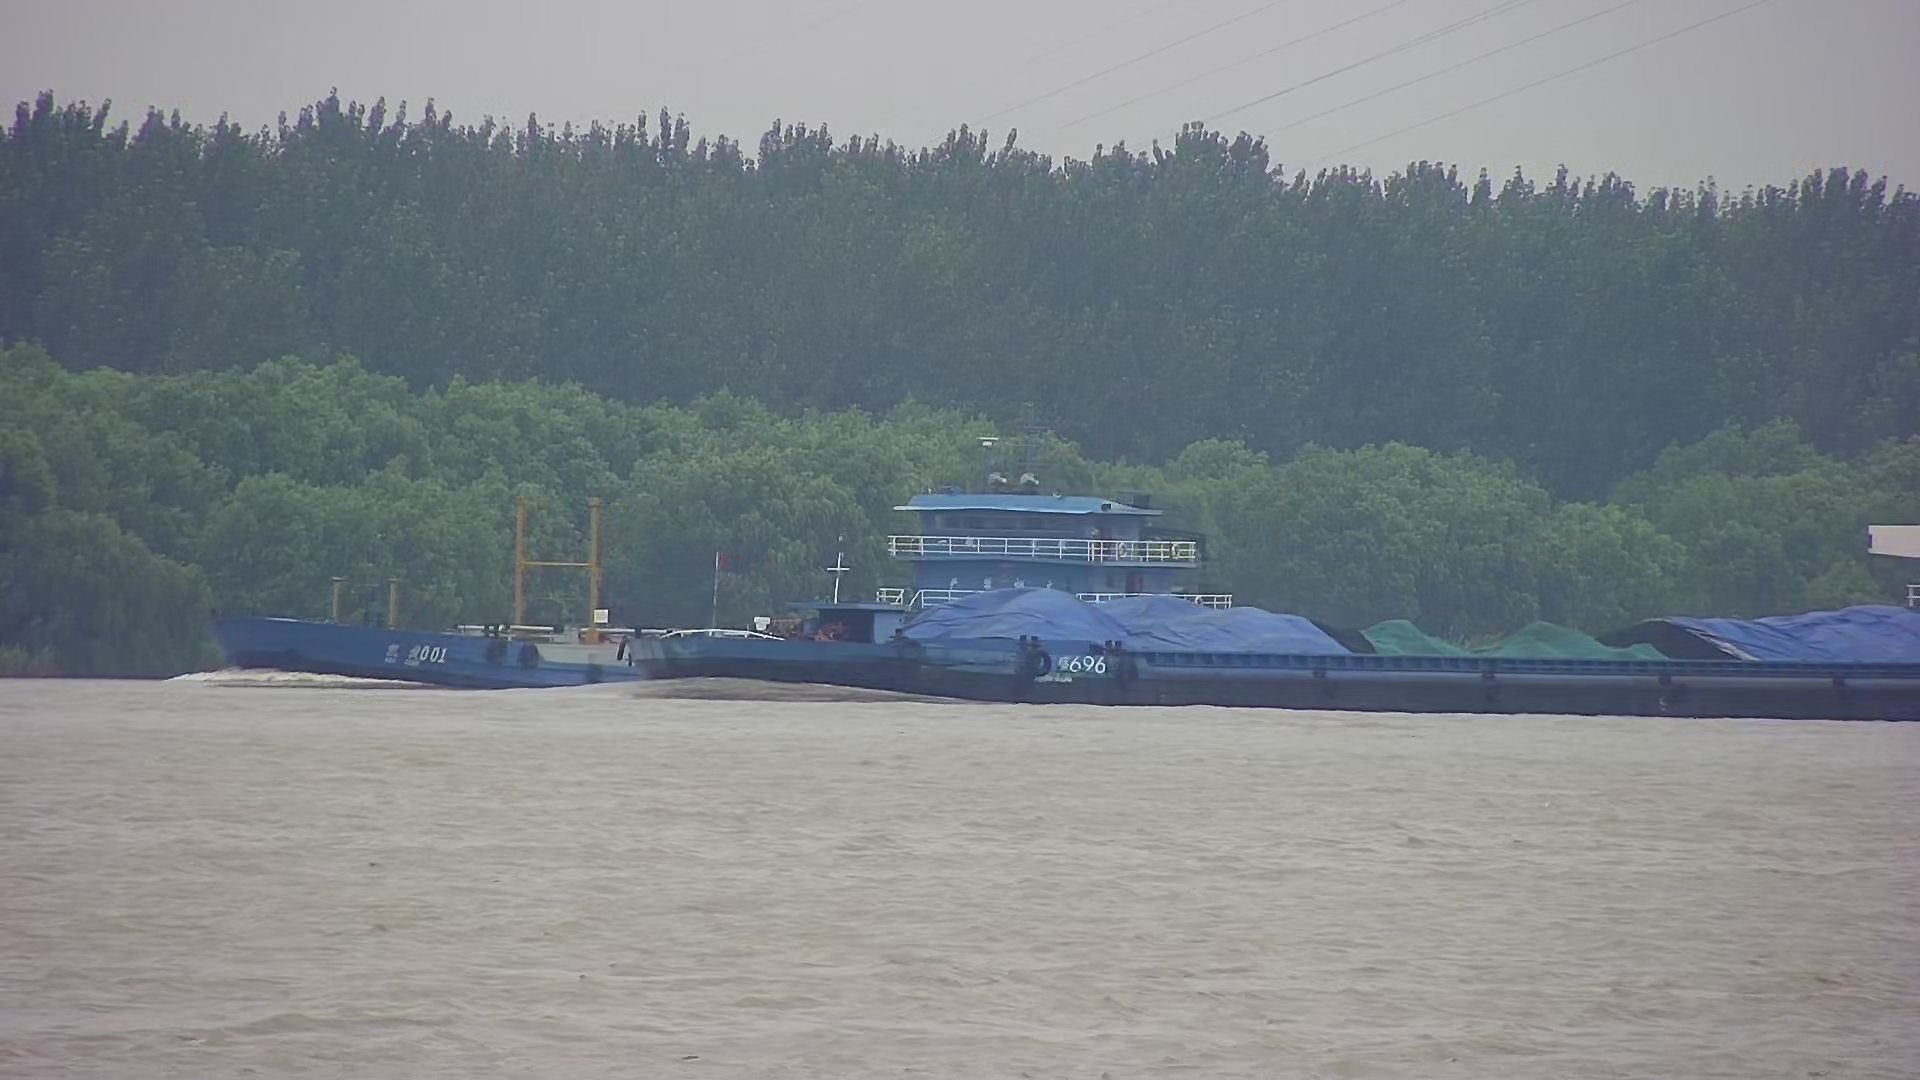ship: (628, 522, 1920, 723), (212, 477, 1247, 688)
